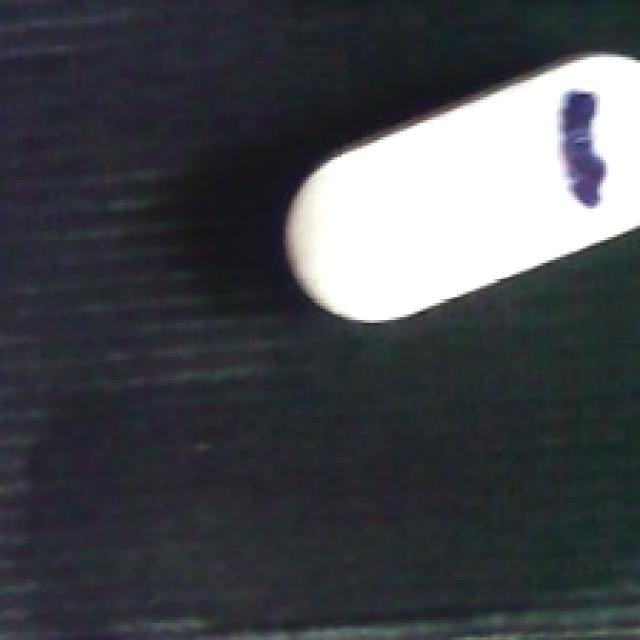defected: (277, 48, 640, 328)
